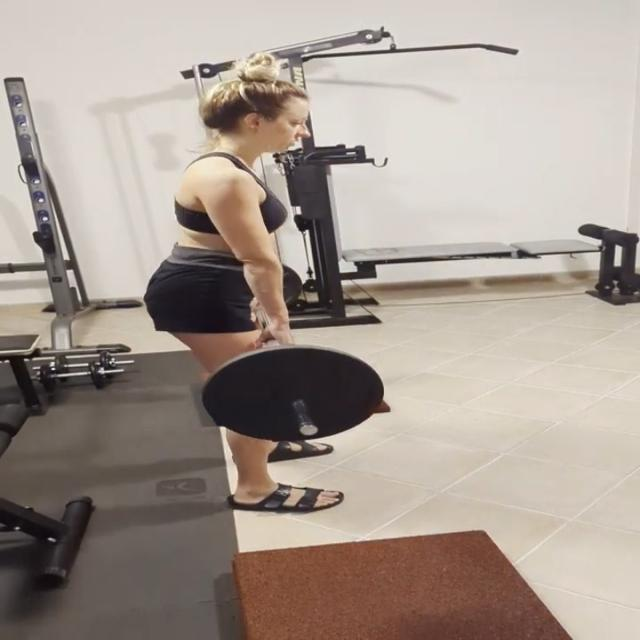barbell: (201, 341, 388, 445)
